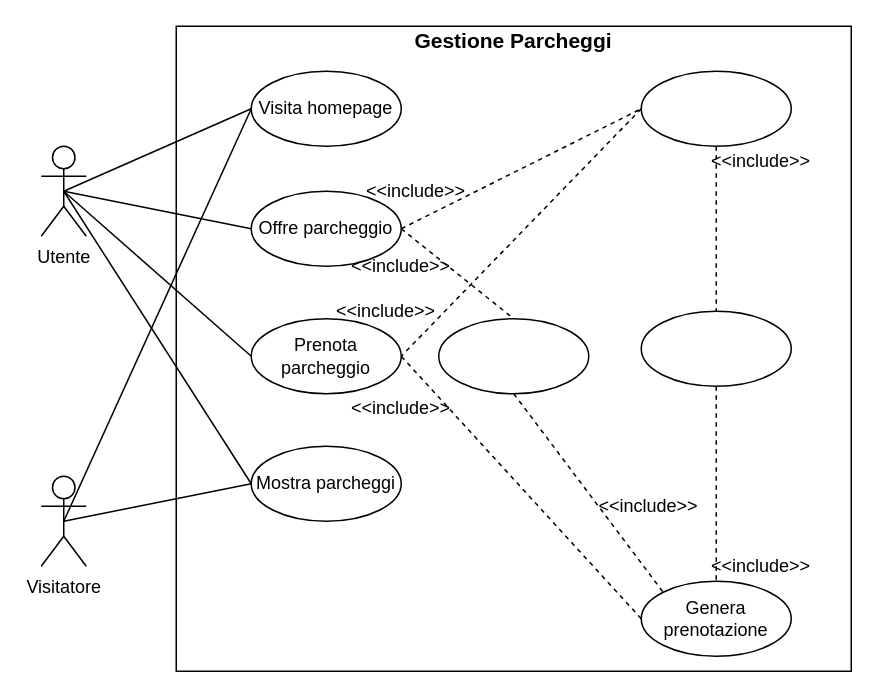
The diagram is 878 pixels wide and 698 high, and some of its shapes have lost their labels. Here are the shapes that lost their labels. From the top down, the centre of each, then its label:
point 715,108: Registrazione
point 513,355: Aggiunta nel database
point 715,348: Invio mail
